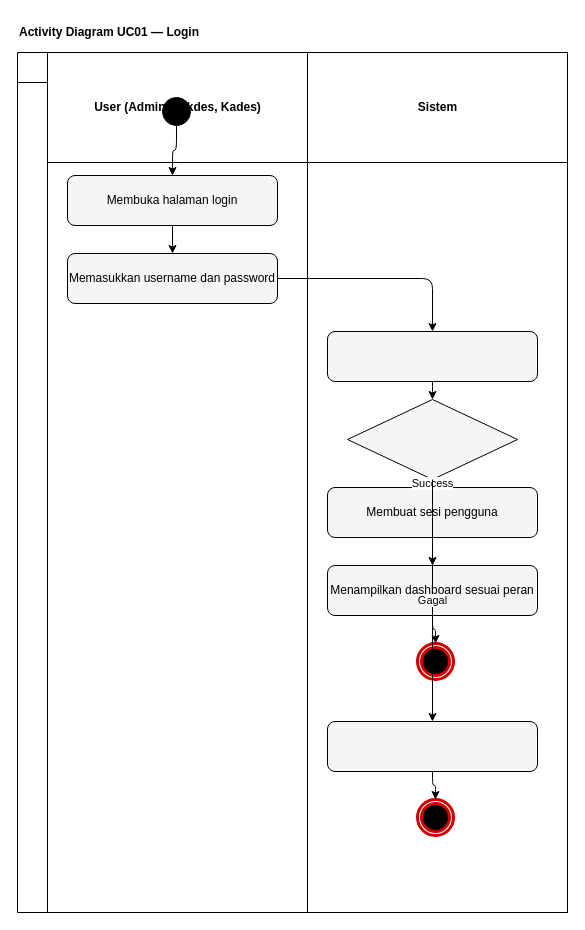
This 585x930 diagram has some shape labels left out. Here are the shapes that lost their labels. From the top down, the centre of each, then its label:
pixel 432 356: Memverifikasi kredensial pengguna
pixel 432 439: Data valid?
pixel 432 746: Menampilkan pesan gagal login
